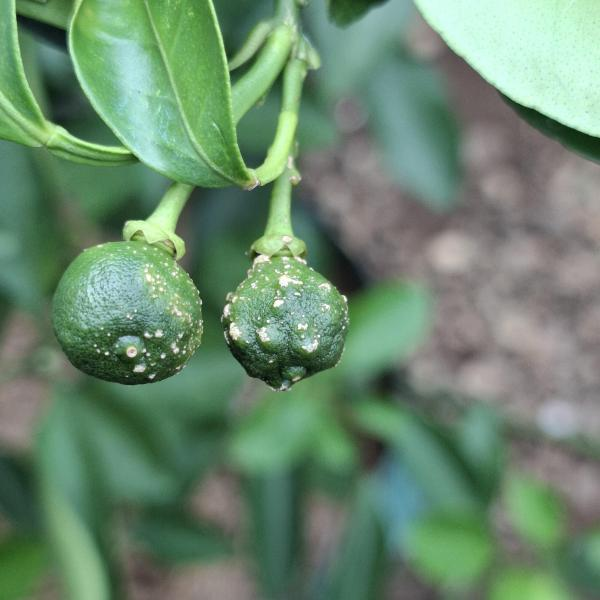Scab: (45, 226, 220, 389), (215, 235, 372, 384)
